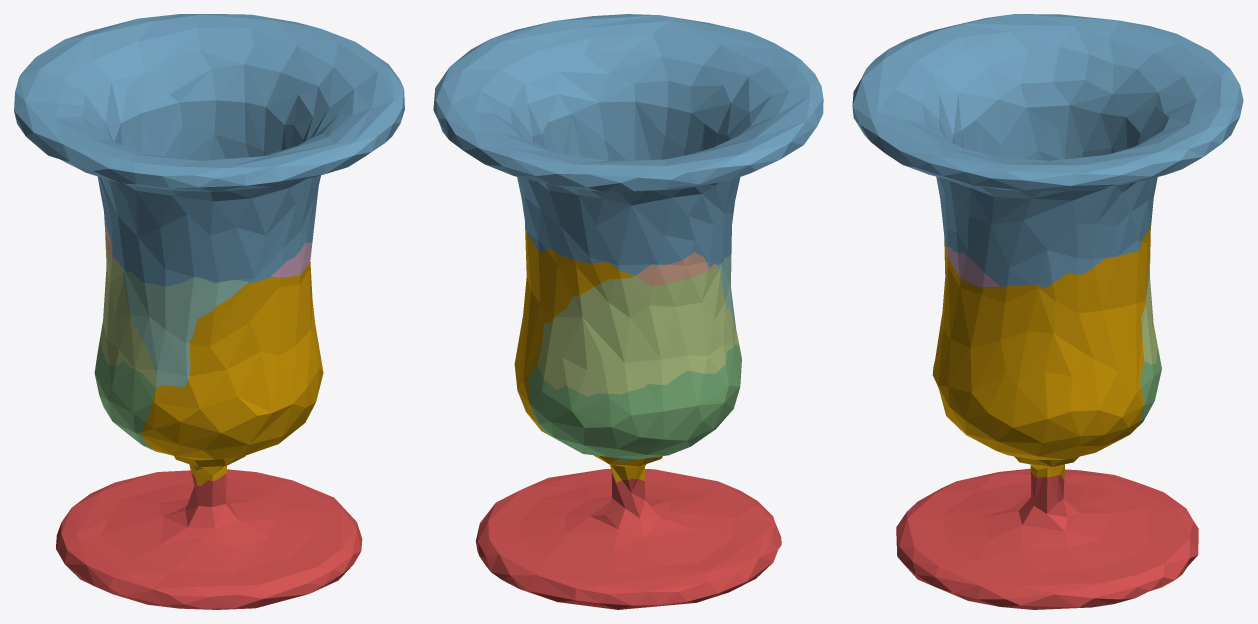
The model's file is fractured_37_8pcs.glb.
3 renders of one model, left to right at view 1: azimuth 30°, elevation 25°; view 2: azimuth 150°, elevation 25°; view 3: azimuth 270°, elevation 25°, orthographic.
Parts seen in each view (by area): view 1: piece_2.obj, piece_1.obj, piece_0.obj, piece_4.obj, piece_5.obj, piece_3.obj, piece_6.obj; view 2: piece_2.obj, piece_1.obj, piece_5.obj, piece_3.obj, piece_0.obj, piece_7.obj, piece_4.obj; view 3: piece_2.obj, piece_0.obj, piece_1.obj, piece_6.obj, piece_5.obj, piece_3.obj.
Boxes of the visible parts, x1,y1,x2,y2 form: piece_2.obj: [14, 14, 404, 286]; piece_1.obj: [56, 469, 362, 609]; piece_0.obj: [141, 261, 323, 486]; piece_4.obj: [120, 266, 248, 387]; piece_5.obj: [100, 245, 156, 387]; piece_3.obj: [94, 334, 155, 449]; piece_6.obj: [271, 242, 312, 277]; piece_2.obj: [433, 14, 823, 275]; piece_1.obj: [475, 469, 781, 609]; piece_5.obj: [537, 266, 739, 396]; piece_3.obj: [528, 344, 741, 461]; piece_0.obj: [514, 225, 741, 482]; piece_7.obj: [636, 252, 716, 286]; piece_4.obj: [717, 245, 736, 332]; piece_2.obj: [852, 14, 1243, 288]; piece_0.obj: [932, 224, 1151, 479]; piece_1.obj: [896, 468, 1198, 609]; piece_6.obj: [946, 246, 999, 287]; piece_5.obj: [1141, 256, 1157, 364]; piece_3.obj: [1136, 348, 1161, 428].
Size of the model in its own units: 0.7742 by 1 by 0.7773.
